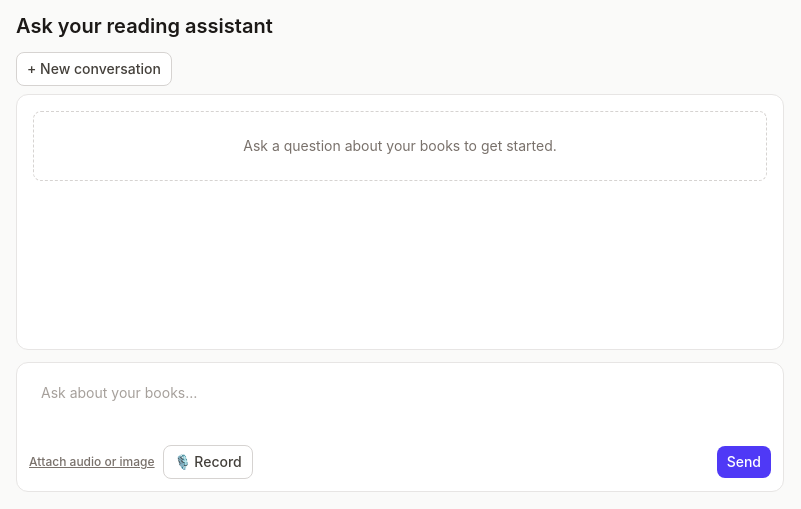
Test: Chat › shows a live progress description while streaming with no content yet
In the text box named "message": point(400, 403) [29, 375, 771, 431], type "who narrates?"
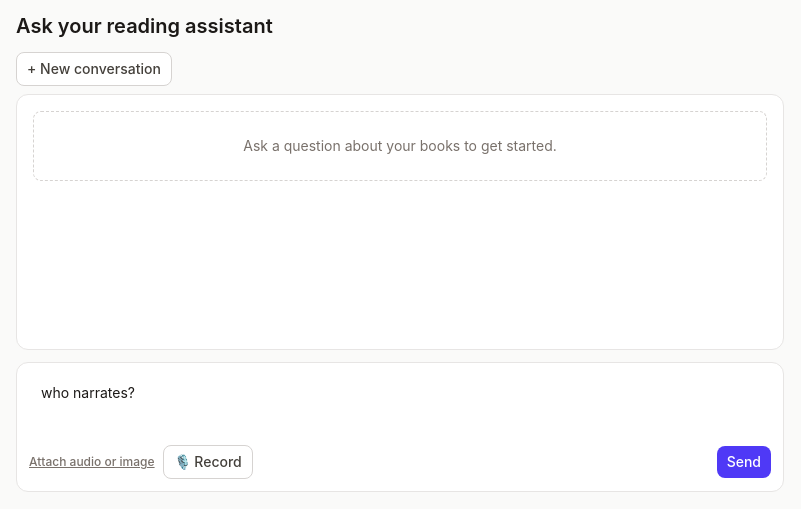
Click the button "Send": point(744, 462) [717, 446, 771, 478]
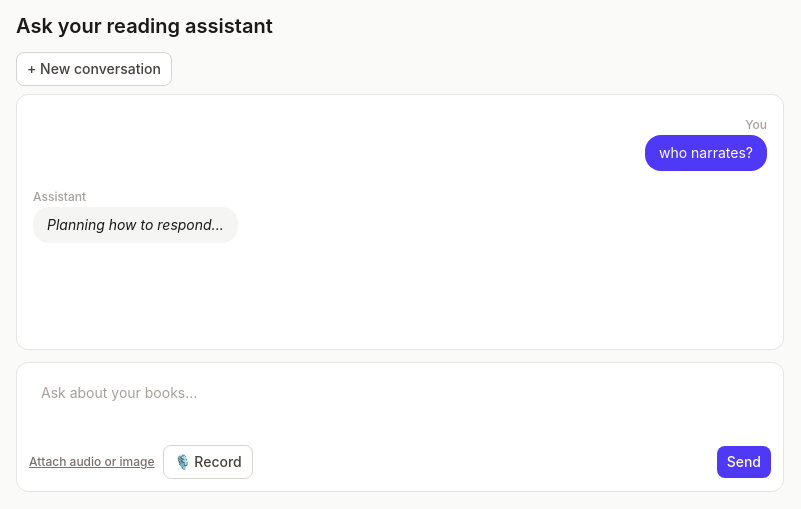
Expected: the text "Planning how to respond..." is shown, [47, 216, 224, 233]
